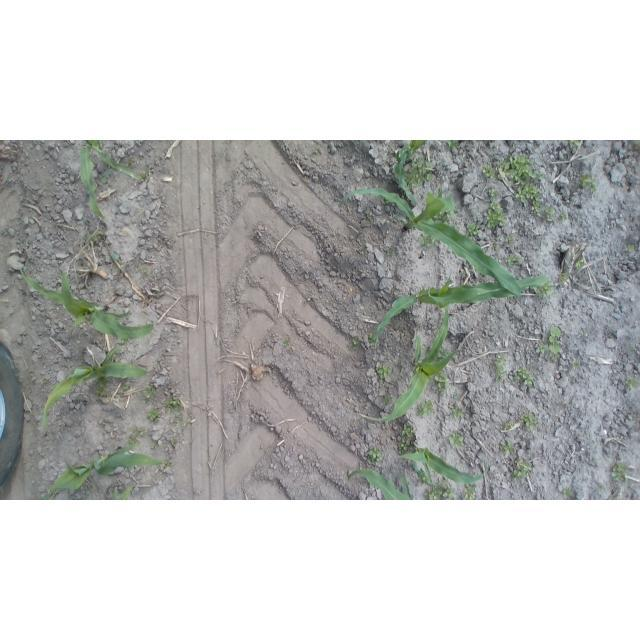Maize: (341, 188, 522, 299), (372, 276, 549, 349), (363, 305, 460, 422), (17, 266, 157, 341), (41, 345, 154, 435), (45, 444, 163, 499), (77, 141, 141, 220), (407, 437, 483, 485), (389, 141, 427, 206), (348, 465, 413, 500)
Weeds: (507, 156, 540, 206), (408, 160, 442, 186), (486, 186, 504, 229), (544, 329, 564, 358), (512, 369, 541, 389), (495, 434, 518, 458), (513, 460, 536, 480), (427, 485, 454, 500), (447, 431, 468, 450), (613, 462, 630, 485), (435, 374, 451, 398), (620, 373, 640, 392), (367, 443, 385, 463), (401, 425, 414, 451), (146, 403, 162, 424), (580, 172, 596, 192), (495, 354, 505, 386), (167, 396, 181, 415), (541, 211, 564, 222), (375, 365, 391, 380), (416, 401, 433, 415), (523, 411, 537, 428), (463, 483, 477, 500), (539, 285, 556, 298), (96, 384, 112, 397), (559, 270, 572, 286), (128, 432, 145, 443), (139, 268, 152, 282), (464, 222, 479, 233), (135, 171, 150, 182), (452, 404, 462, 420), (123, 155, 134, 169), (163, 458, 174, 472), (484, 164, 495, 178), (146, 381, 154, 400), (575, 258, 585, 270), (504, 254, 516, 262), (506, 233, 515, 243), (123, 383, 131, 394), (352, 338, 361, 347)
